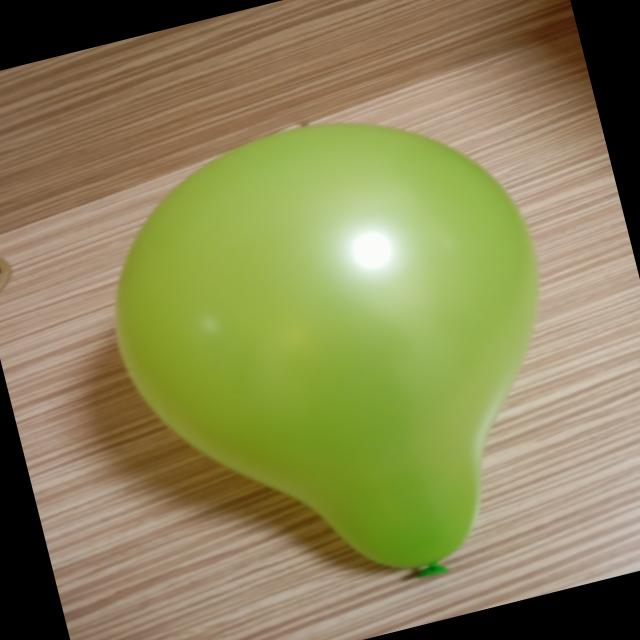balloon: (115, 123, 539, 576)
